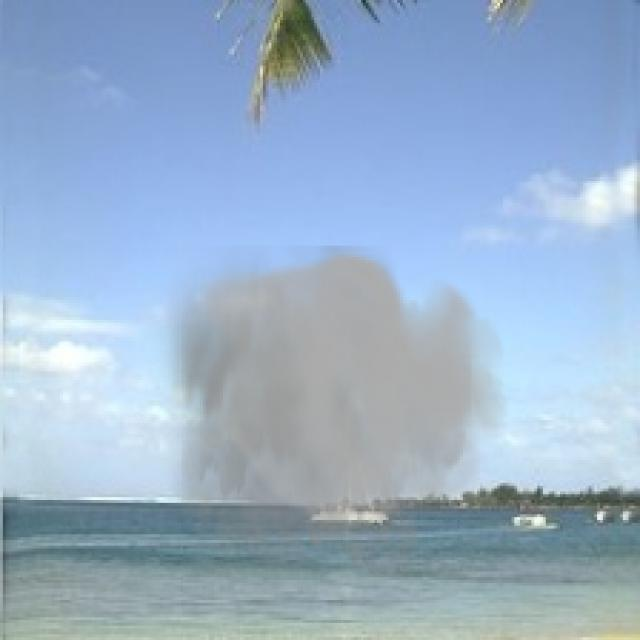smoke: (152, 246, 508, 614)
